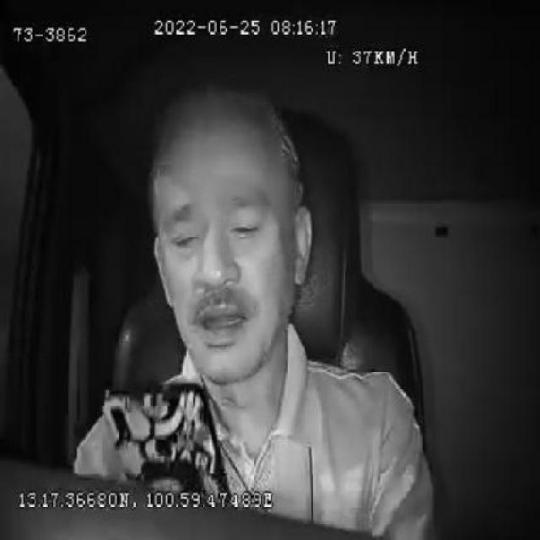phone: (100, 376, 230, 491)
